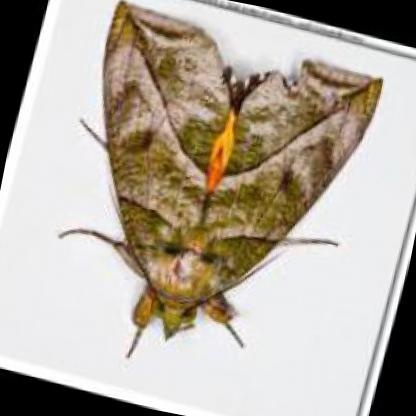fruit sucking moth: (99, 4, 378, 339)
